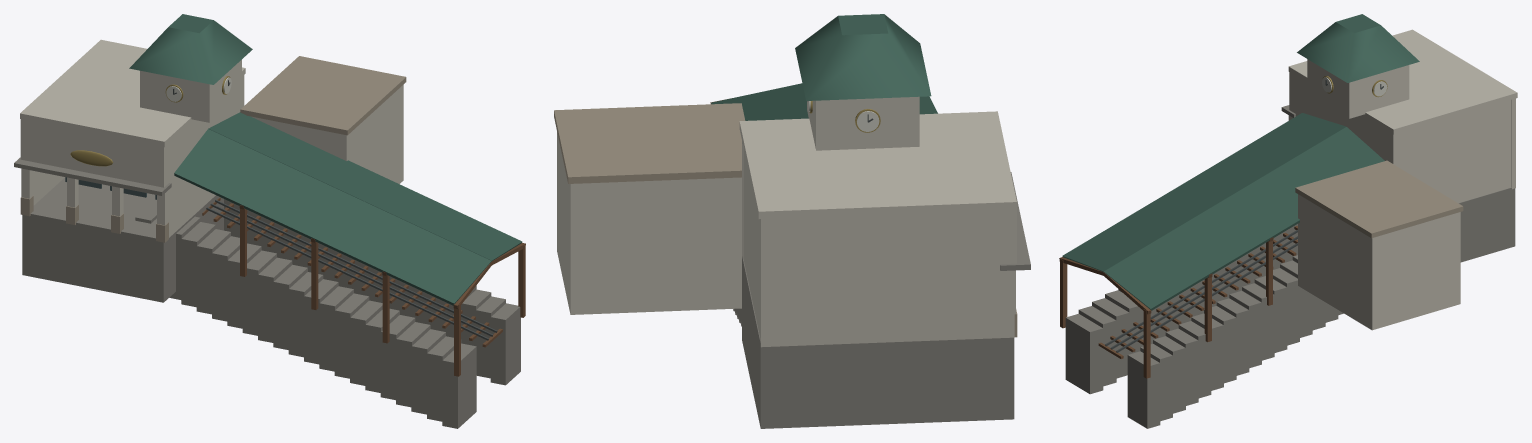
The model's file is maya-cable-niji.glb.
The picture shows the model from 3 angles, left to right: view 1: azimuth 30°, elevation 25°; view 2: azimuth 150°, elevation 25°; view 3: azimuth 270°, elevation 25°; orthographic projection. The views are drawn at different scales.
Size of the model in its own units: 22.78 by 18.58 by 25.39.
